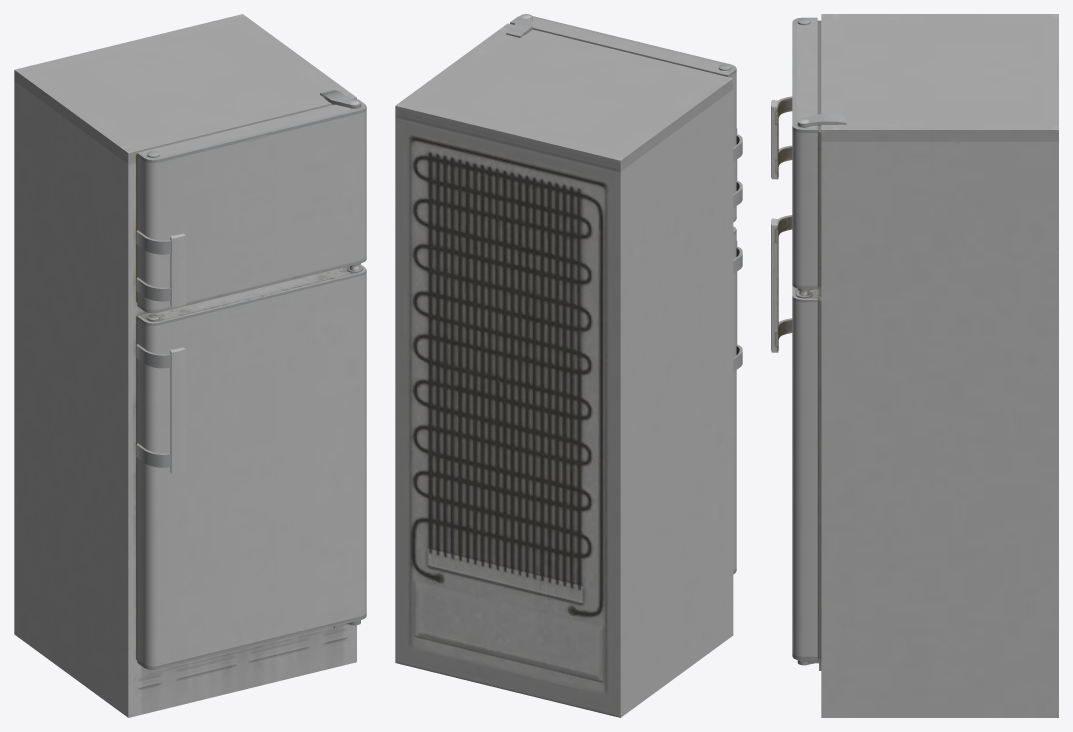
The model's file is fridge.glb.
The picture shows the model from 3 angles, left to right: view 1: azimuth 30°, elevation 25°; view 2: azimuth 150°, elevation 25°; view 3: azimuth 270°, elevation 25°; orthographic projection. The views are drawn at different scales.
Visible parts, largest first — view 1: Object_8; view 2: Object_8; view 3: Object_8.
Part boxes in pixels (box(x1,y1,x2,y2)): Object_8: box(14, 14, 366, 717); Object_8: box(395, 14, 742, 717); Object_8: box(771, 14, 1058, 717).
Bounding box in the file's own units: 0.8482 × 2.02 × 0.8891.
Materials: 1 (1 with a texture image).
